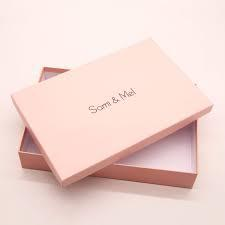box: (7, 36, 213, 188)
